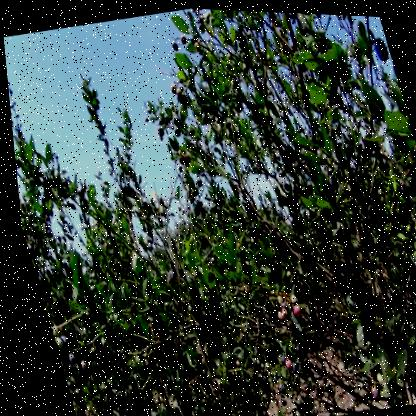intermediate: (275, 350, 292, 374), (284, 296, 300, 318)
mature: (367, 28, 392, 66)
young: (47, 334, 62, 356)
